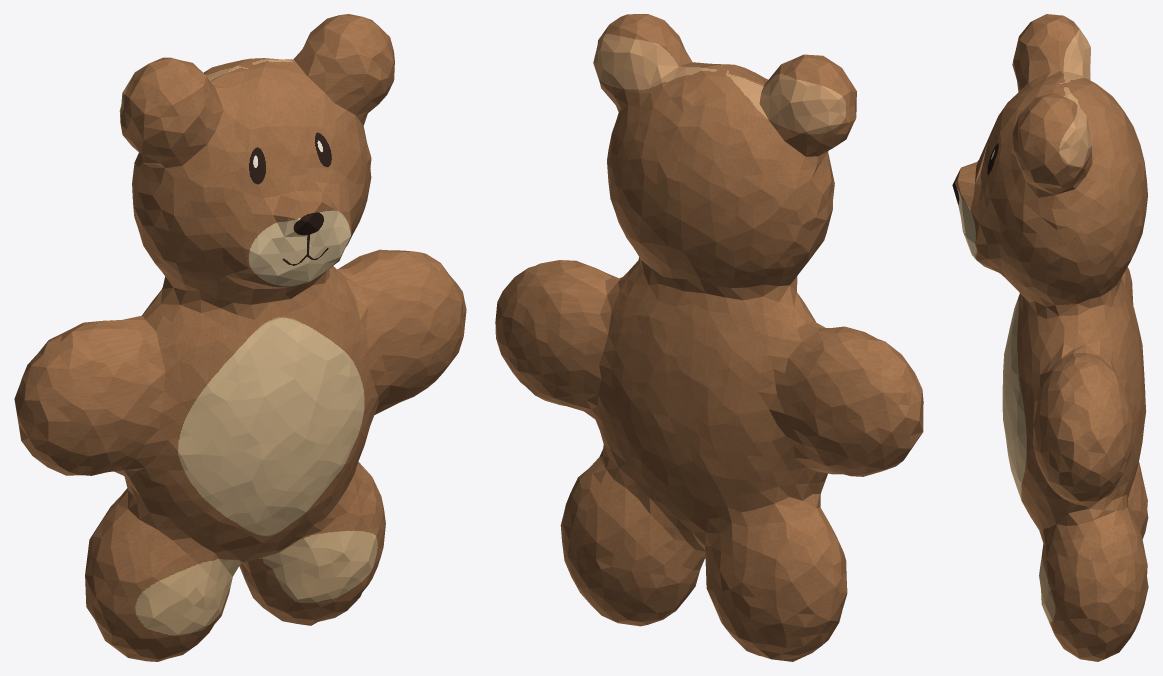
File: bear_uniform.obj
The picture shows the model from 3 angles, left to right: view 1: azimuth 30°, elevation 25°; view 2: azimuth 150°, elevation 25°; view 3: azimuth 270°, elevation 25°; orthographic projection. The views are drawn at different scales.
Size of the model in its own units: 0.2404 by 0.3209 by 0.1009.
Materials: 1 (1 with a texture image).
